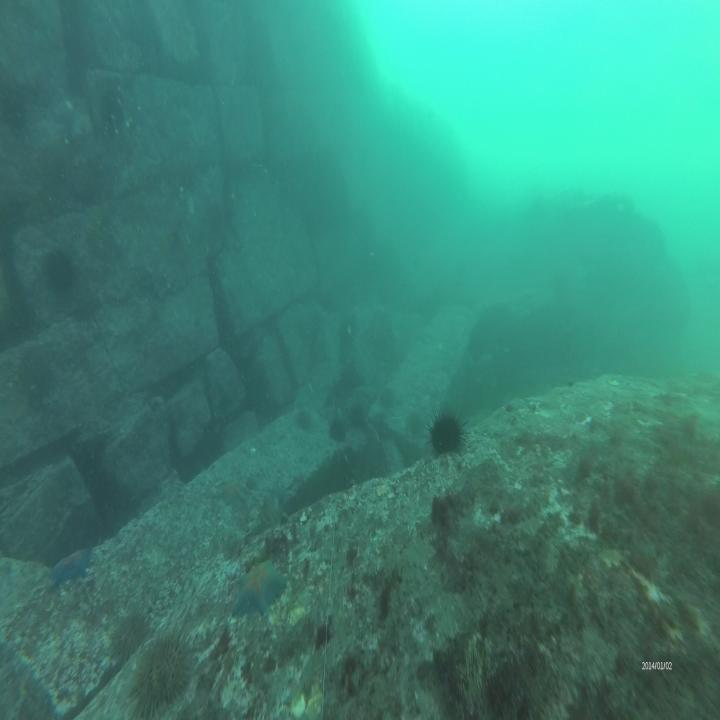echinus: (132, 629, 194, 717), (427, 404, 466, 458), (44, 245, 75, 293), (326, 416, 345, 444), (348, 402, 364, 430)
starfish: (235, 554, 285, 622), (50, 549, 92, 587)
